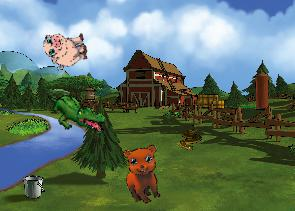bear: (115, 139, 174, 208)
crocodile: (45, 93, 107, 133)
pig: (41, 25, 90, 72)
